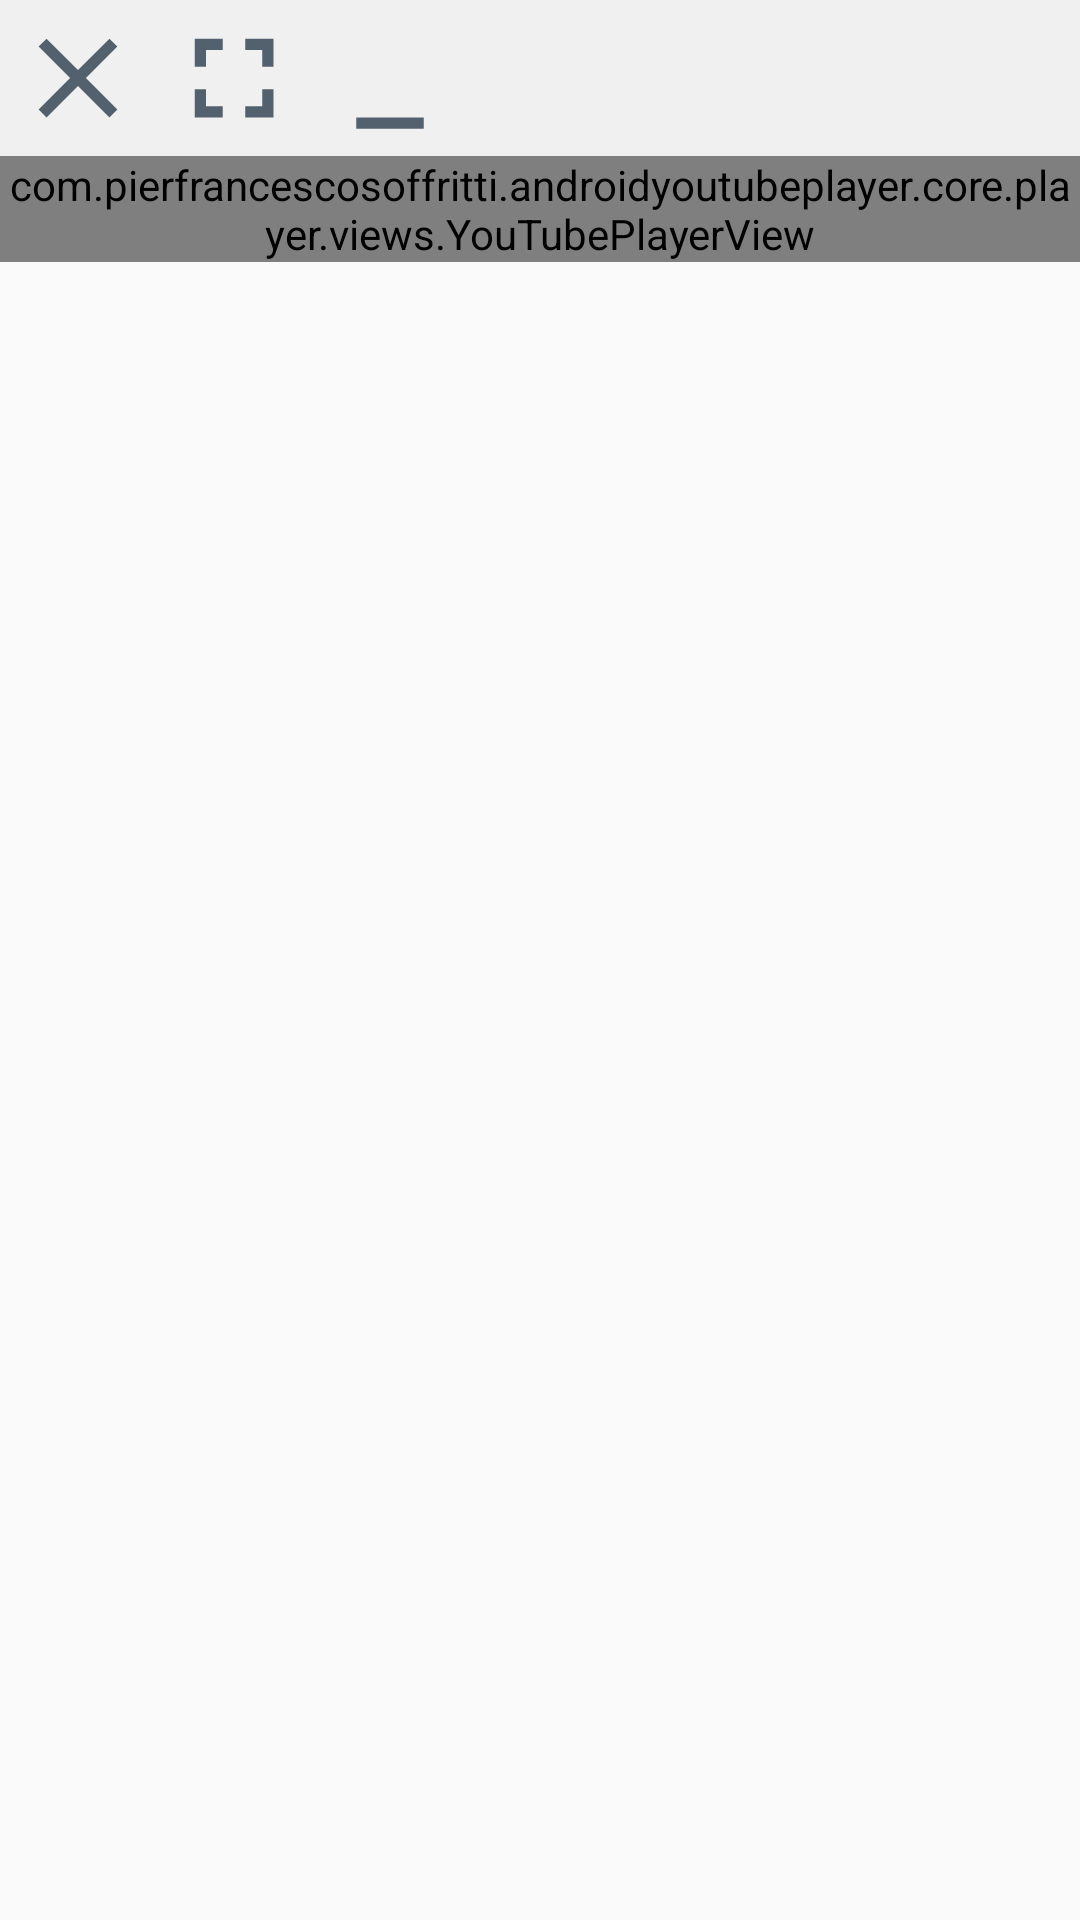

Point at icon controls on the screen. Image size 1080px x 1920px, points as (x,y).
close: (78,78)
maximize: (234,78)
minimize: (390,123)
